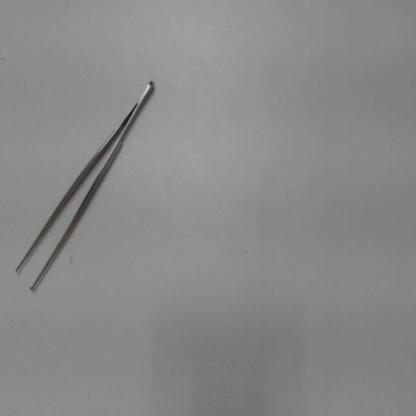Gillies Toothed Dissector: (9, 70, 160, 304)
